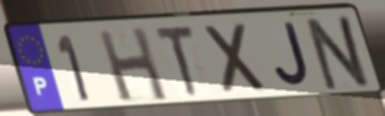1: (54, 33, 94, 105)
H: (94, 25, 172, 104)
J: (272, 20, 314, 91)
N: (304, 13, 376, 93)
T: (153, 23, 202, 101)
X: (200, 20, 271, 98)
